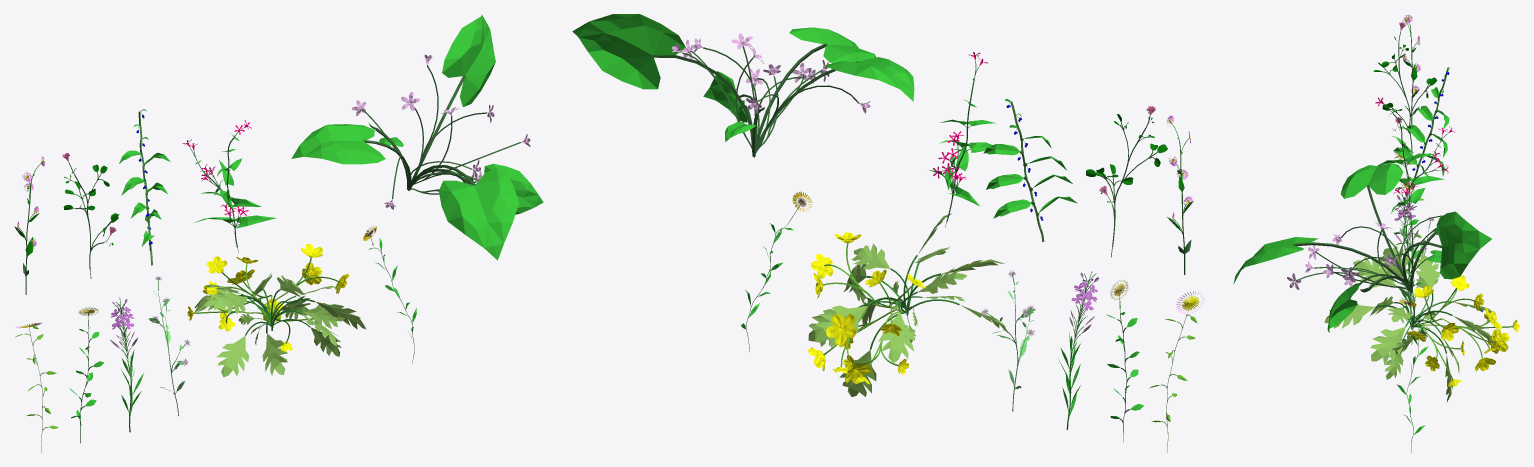
The model's file is Wildflowers_saved.obj.
3 views of the same model, side by side, from view 1: azimuth 30°, elevation 25°; view 2: azimuth 150°, elevation 25°; view 3: azimuth 270°, elevation 25° (orthographic). The views are drawn at different scales.
Parts seen in each view (by area): view 1: violet, buttercu, wildpin, Solomon', fireweed, clover, fleabane, another, thistle, black-ey; view 2: violet, buttercu, Solomon', wildpin, fireweed, clover, another, thistle, fleabane, Pinkdai, black-ey; view 3: violet, buttercu, wildpin, Solomon', clover, fireweed, fleabane, black-ey, another.
Boxes of the visible parts, x1=… form: violet: x1=291, y1=14, x2=543, y2=260; buttercu: x1=187, y1=244, x2=366, y2=377; wildpin: x1=182, y1=120, x2=276, y2=252; Solomon': x1=119, y1=109, x2=170, y2=265; fireweed: x1=110, y1=297, x2=143, y2=432; clover: x1=62, y1=153, x2=119, y2=278; fleabane: x1=14, y1=156, x2=44, y2=294; another: x1=69, y1=307, x2=104, y2=443; thistle: x1=148, y1=276, x2=190, y2=416; black-ey: x1=363, y1=226, x2=416, y2=363; violet: x1=572, y1=14, x2=914, y2=157; buttercu: x1=808, y1=213, x2=1008, y2=396; Solomon': x1=983, y1=99, x2=1077, y2=241; wildpin: x1=929, y1=52, x2=995, y2=227; fireweed: x1=1058, y1=271, x2=1098, y2=429; clover: x1=1086, y1=106, x2=1167, y2=257; another: x1=1106, y1=279, x2=1143, y2=441; thistle: x1=981, y1=270, x2=1035, y2=411; fleabane: x1=1166, y1=115, x2=1193, y2=274; Pinkdai: x1=1149, y1=291, x2=1203, y2=452; black-ey: x1=741, y1=191, x2=812, y2=351; violet: x1=1233, y1=163, x2=1491, y2=332; buttercu: x1=1324, y1=246, x2=1519, y2=402; wildpin: x1=1375, y1=97, x2=1454, y2=213; Solomon': x1=1393, y1=67, x2=1449, y2=189; clover: x1=1373, y1=22, x2=1437, y2=153; fireweed: x1=1394, y1=191, x2=1418, y2=314; fleabane: x1=1402, y1=14, x2=1420, y2=124; black-ey: x1=1397, y1=299, x2=1428, y2=452; another: x1=1394, y1=177, x2=1422, y2=300.
Bounding box in the file's own units: 499 × 278 × 264.
